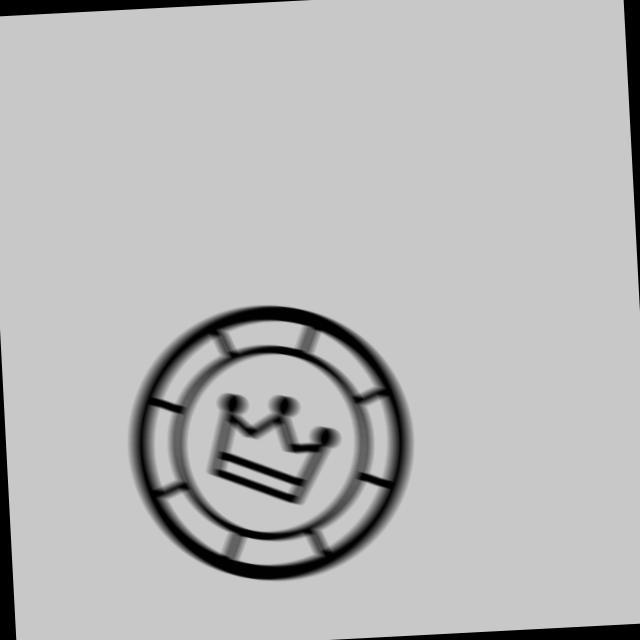coin: (115, 293, 428, 598)
